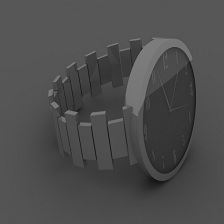Watch: (43, 20, 207, 206)
